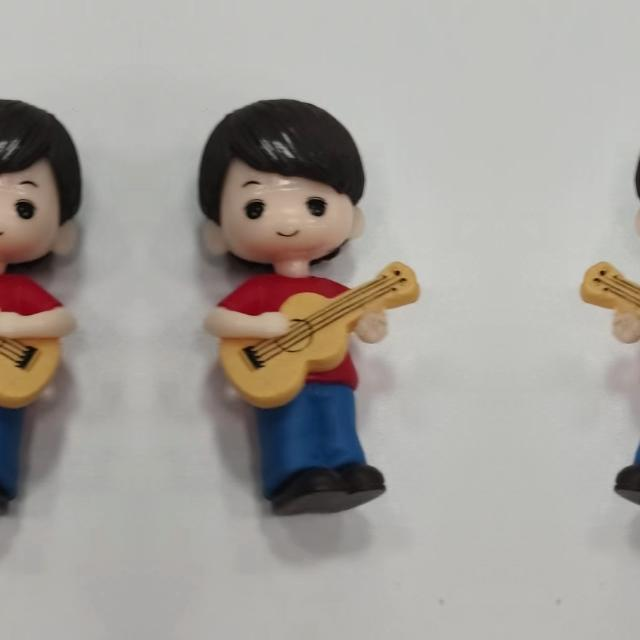man cloth: (212, 270, 384, 390), (0, 270, 68, 389), (615, 270, 640, 389)
man head: (196, 94, 374, 270), (0, 94, 83, 269), (626, 94, 640, 269)
trousers: (259, 386, 386, 514), (613, 385, 640, 514), (0, 385, 20, 514)
